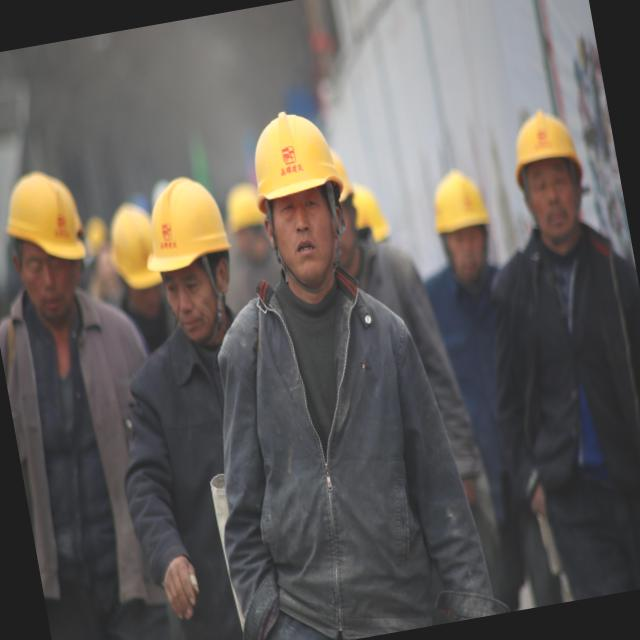helmet: (235, 103, 346, 224), (129, 166, 238, 287), (0, 156, 97, 281), (502, 95, 588, 192)
no-goggles: (153, 262, 226, 307), (265, 184, 338, 228), (18, 246, 75, 289)
no-vest: (233, 283, 434, 614), (0, 297, 157, 545)
